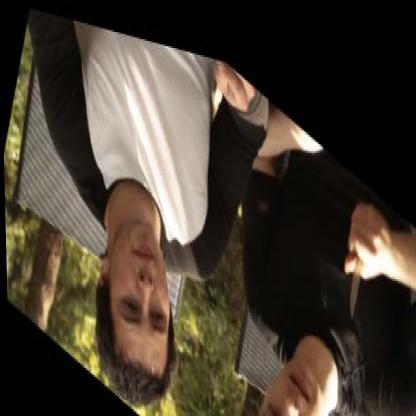knife: (324, 163, 389, 329)
